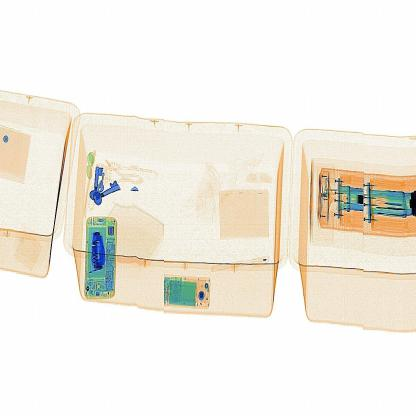scissors: (87, 229, 112, 278)
